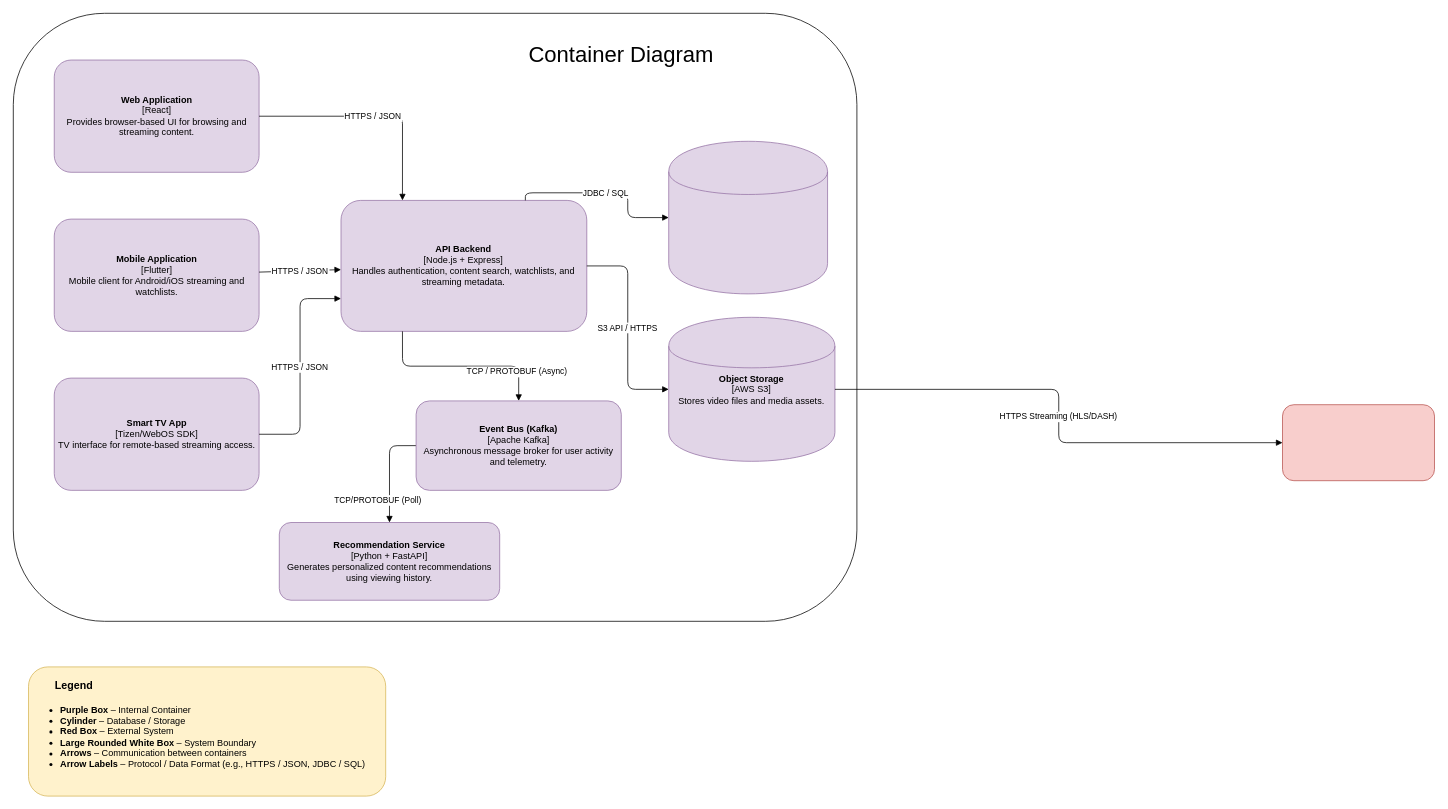
This 1448x809 diagram has some shape labels left out. Each missing label, with the centre of its shape:
"CDN (External) Delivers adaptive video streams globally." belongs at [1358,442].
"Database [PostgreSQL] Stores users, watchlists, history, and metadata." belongs at [748,217].
